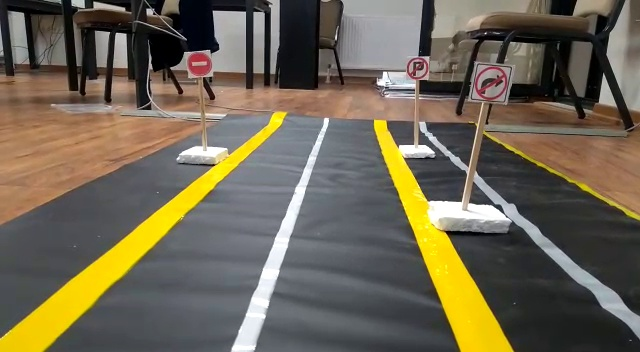girisi_olmayan_yol: (184, 50, 215, 78)
park_yapilmaz: (405, 52, 430, 83)
saga_donulmez: (469, 62, 511, 102)
